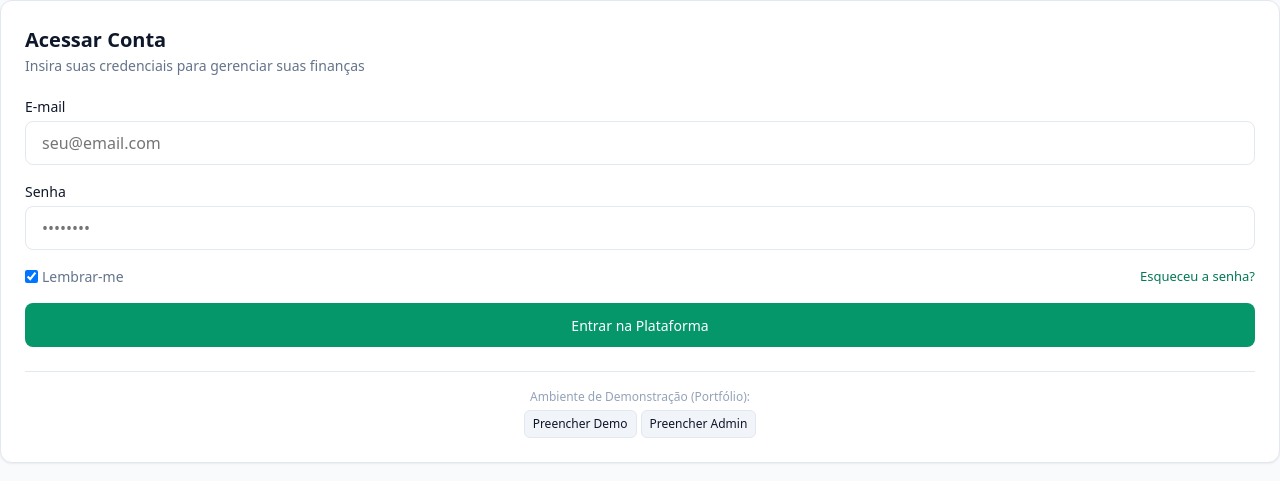
Scenario: LoginPage Component › allows filling demo credentials with quick buttons
The width and height of the screenshot is (1280, 481).
Click the button "Preencher Demo" at (580, 424), box [524,410,637,438]
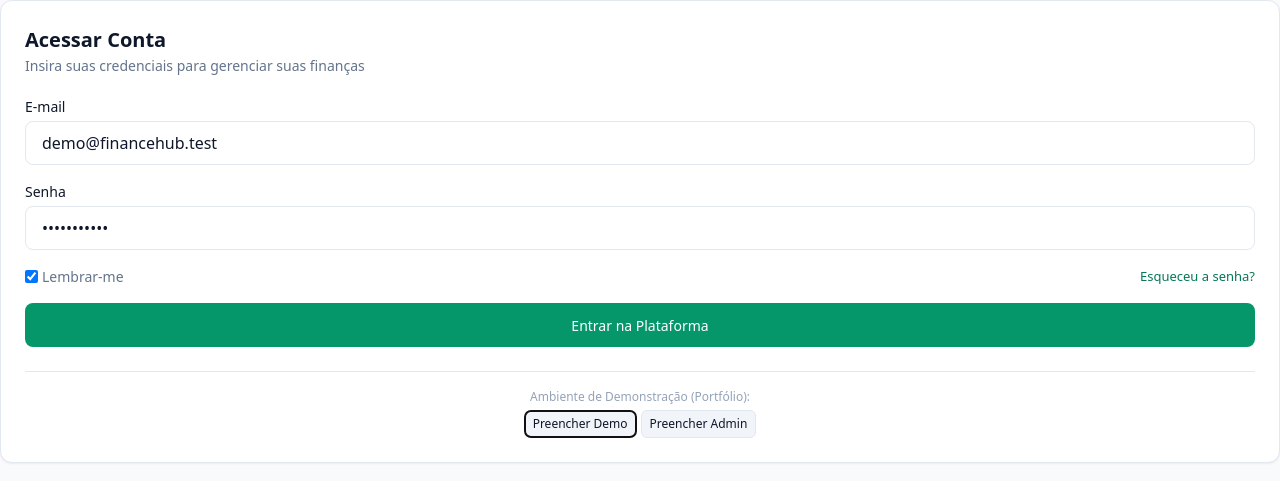
expect the field labelled "E-mail" holds "demo@financehub.test": met, box [25,121,1255,165]
